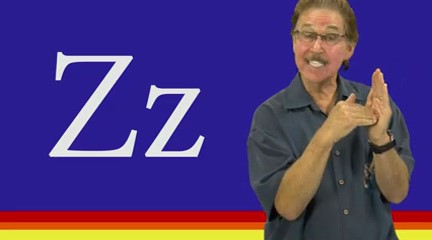Z: (310, 67, 396, 139)
